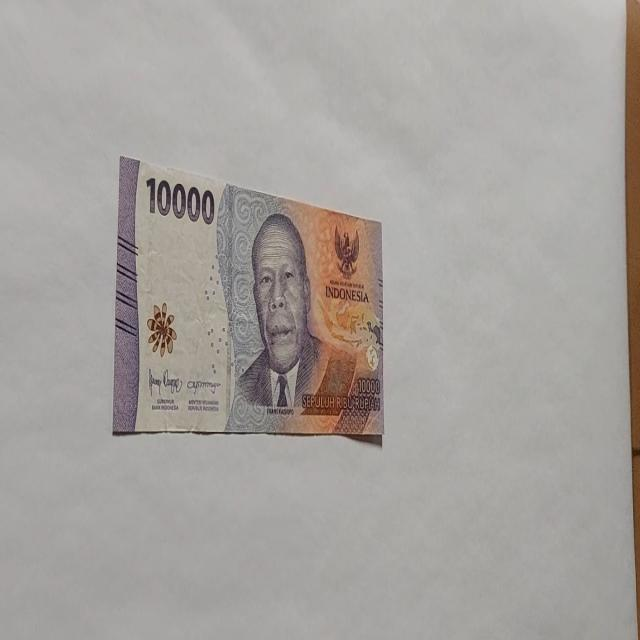sepuluh ribu rupiah: (111, 154, 385, 440), (224, 210, 358, 434)
